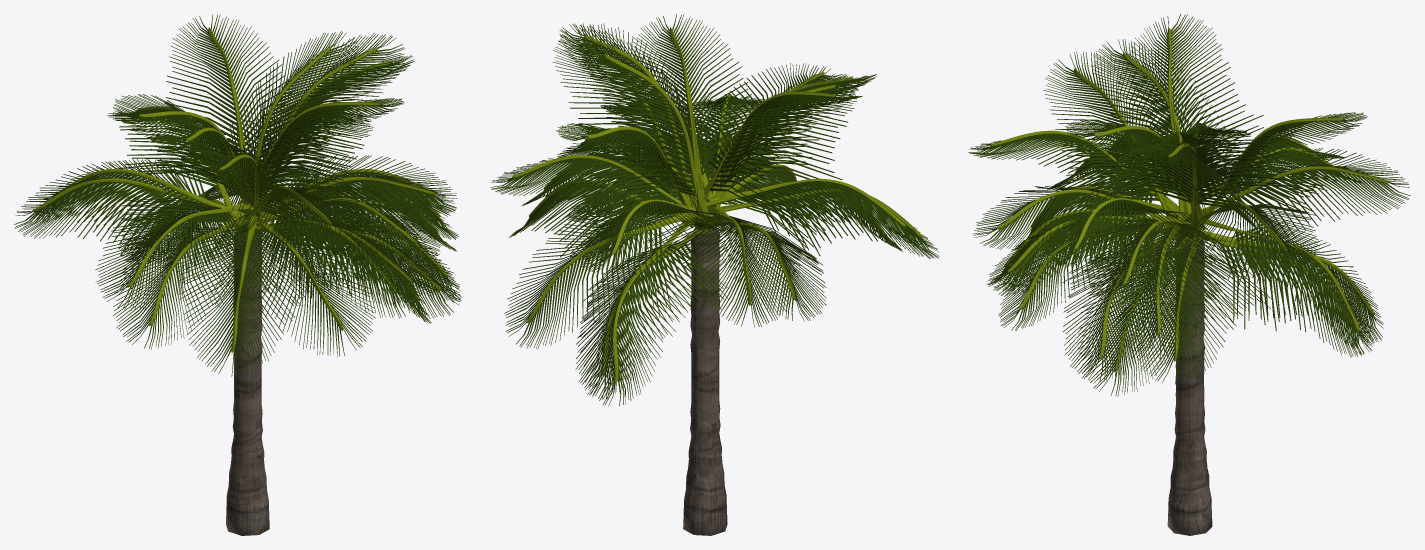
Rendered from CoconutTree.fbx.
3 renders of one model, left to right at view 1: azimuth 30°, elevation 25°; view 2: azimuth 150°, elevation 25°; view 3: azimuth 270°, elevation 25°, orthographic. The views are drawn at different scales.
Visible parts, largest first — view 1: Leaf Base.001, Trunk.001; view 2: Leaf Base.001, Trunk.001; view 3: Leaf Base.001, Trunk.001.
Part boxes in pixels (x1,y1,x2,y2): Leaf Base.001: (14, 14, 461, 376); Trunk.001: (226, 232, 269, 535); Leaf Base.001: (490, 14, 939, 406); Trunk.001: (683, 227, 727, 535); Leaf Base.001: (968, 14, 1410, 396); Trunk.001: (1167, 236, 1212, 535).
Size of the model in its own units: 3202 by 3747 by 3324.
